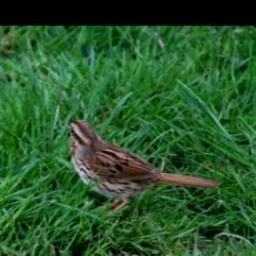Sparrow: (62, 114, 222, 216)
